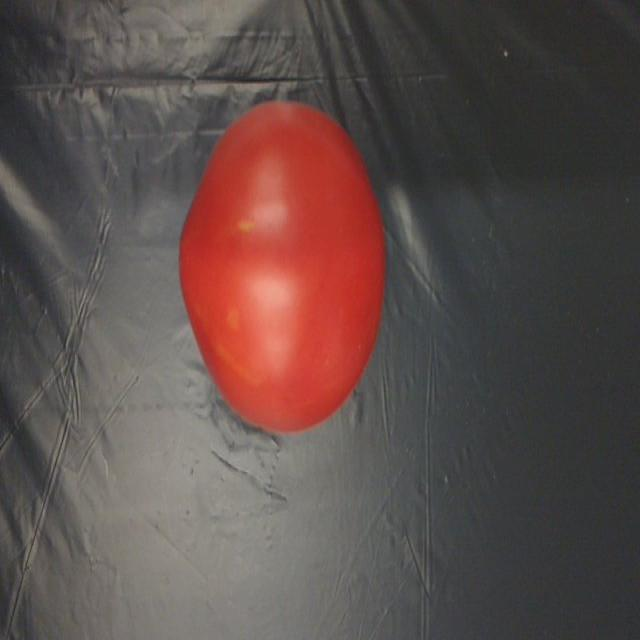kirmizi: (150, 82, 387, 440)
